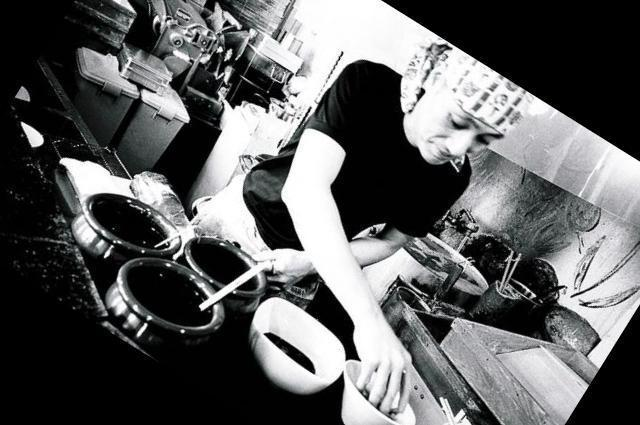Bote de Basura: (39, 40, 142, 145), (107, 81, 195, 185)
Lavaplatos: (350, 161, 526, 320)
